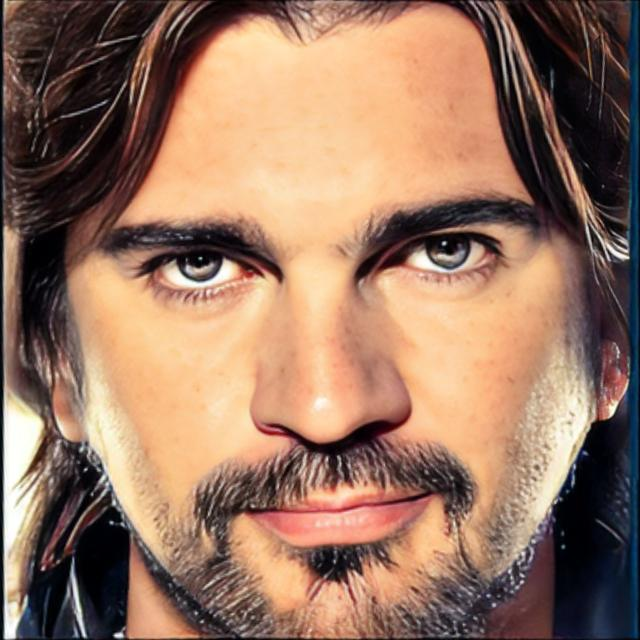neutral: (68, 0, 596, 640)
